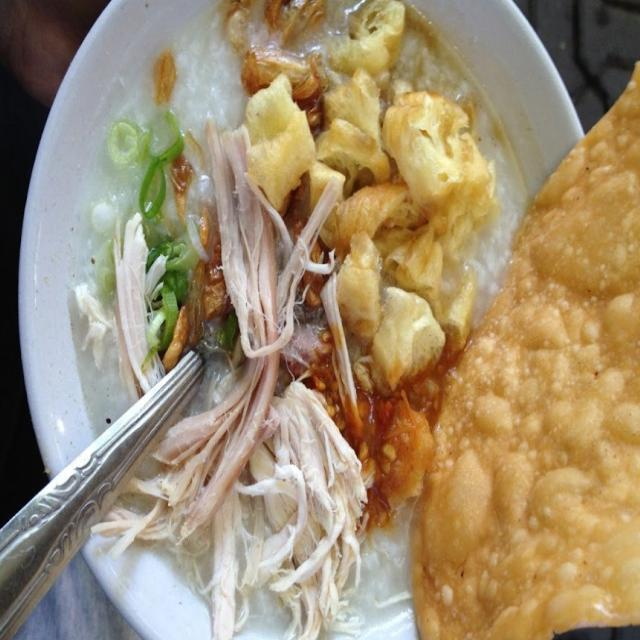bubur ayam: (78, 0, 525, 632)
mangkuk: (15, 1, 594, 626)
